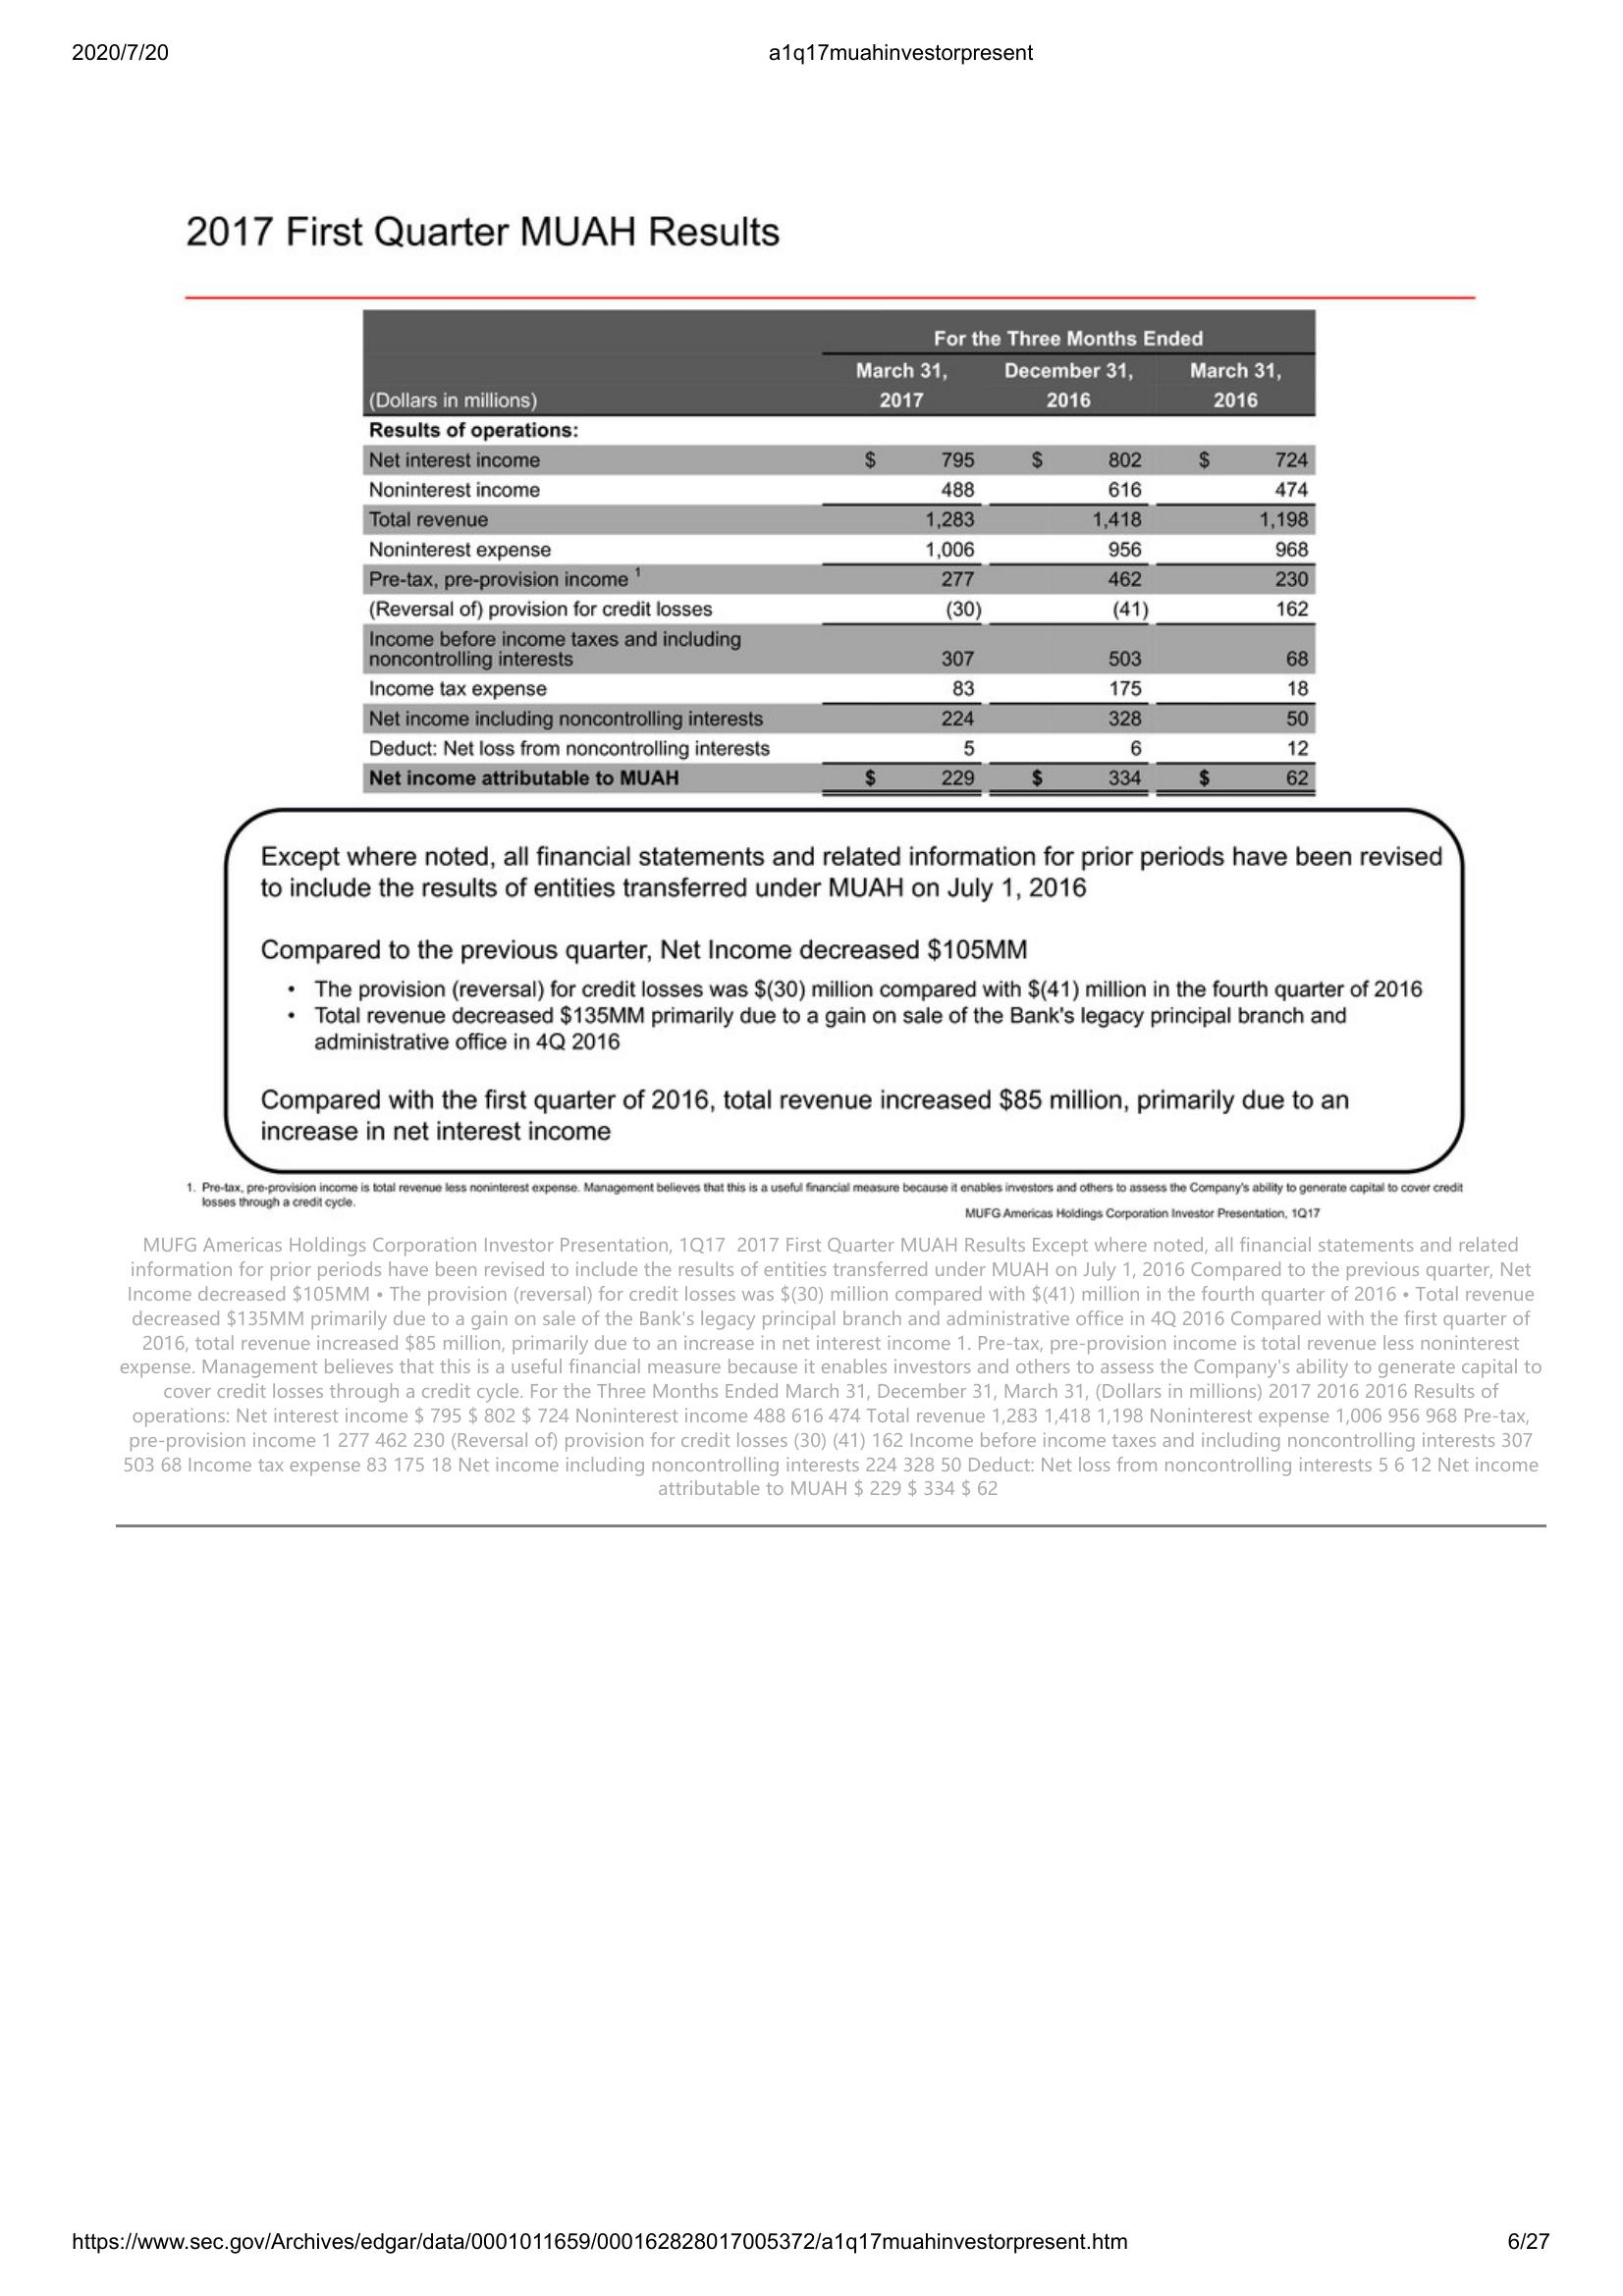table: (358, 304, 1321, 804)
